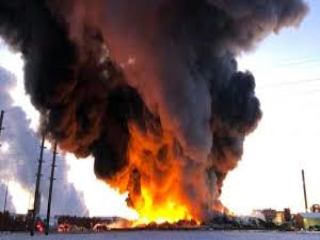fire: (123, 183, 203, 229)
smoke: (10, 9, 279, 201)
